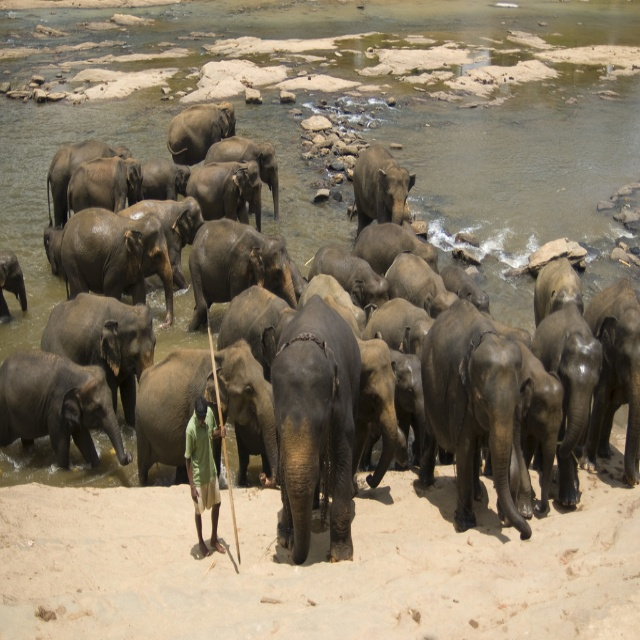Elephant: (0, 101, 640, 565)
